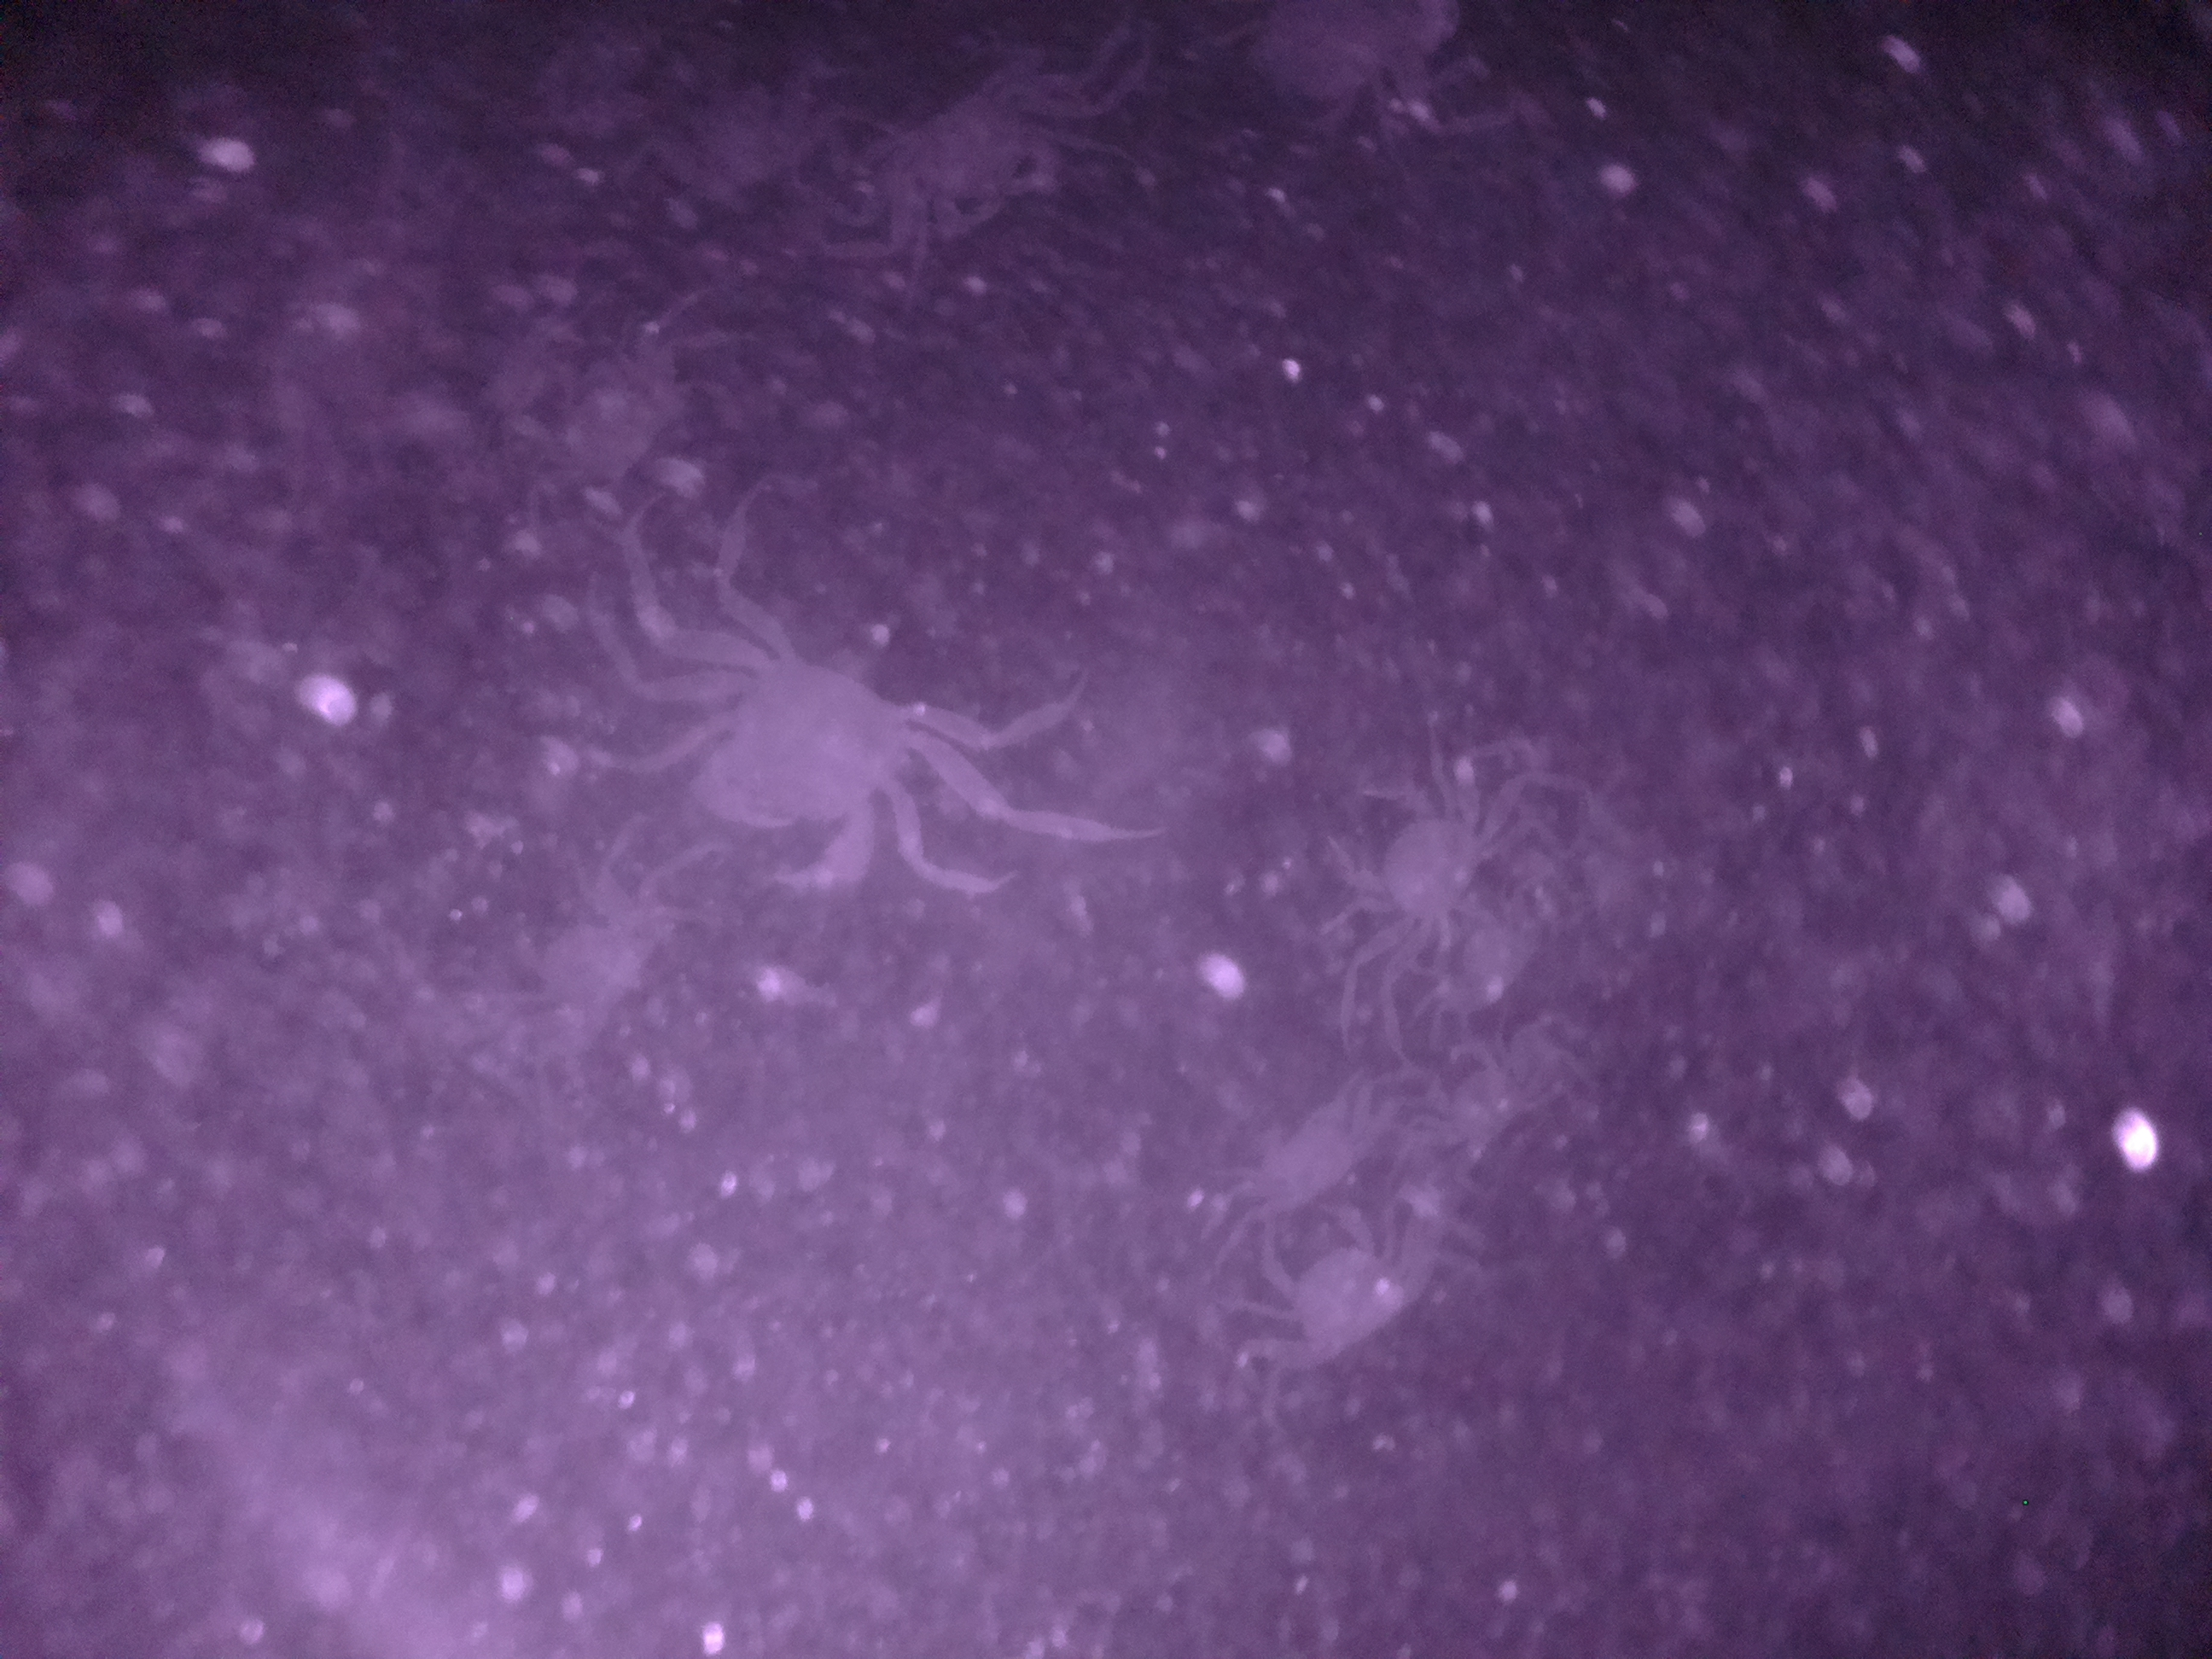Crab: (1303, 741, 1527, 985), (1254, 1194, 1425, 1385)
